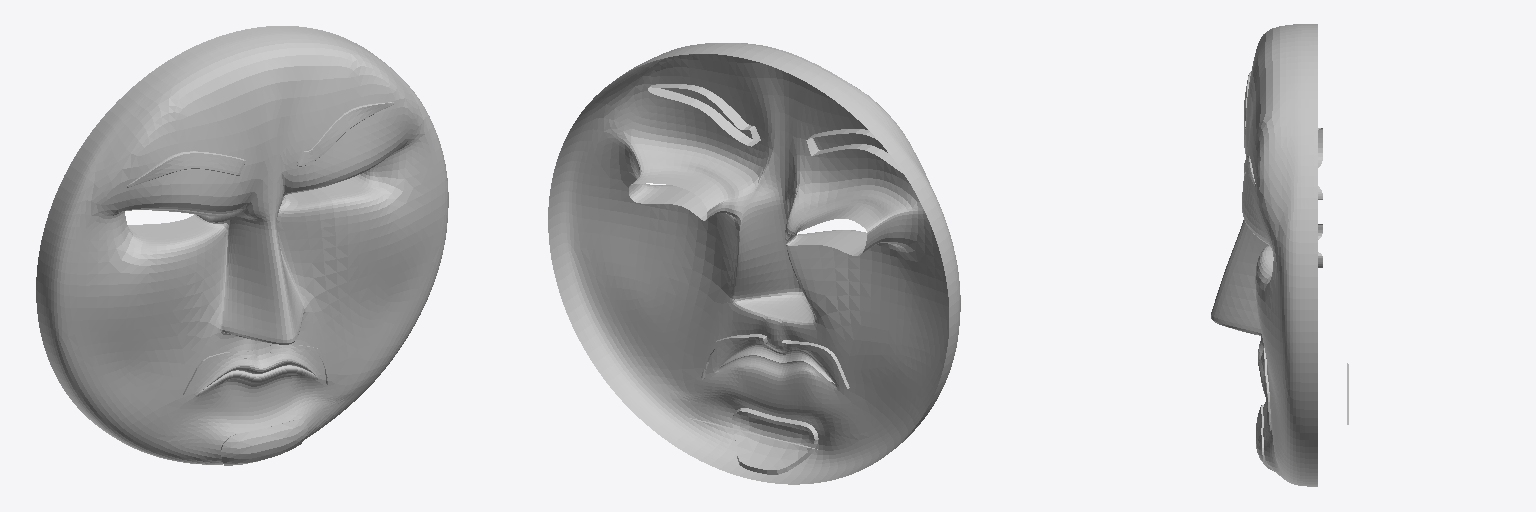
Rendered from Cross.obj.
3 views of the same model, side by side, from view 1: azimuth 30°, elevation 25°; view 2: azimuth 150°, elevation 25°; view 3: azimuth 270°, elevation 25° (orthographic).
Visible parts, largest first — view 1: Circle.033_Circle.068; view 2: Circle.033_Circle.068; view 3: Circle.033_Circle.068.
Part boxes in pixels (x1,y1,x2,y2): Circle.033_Circle.068: (36,26,448,465); Circle.033_Circle.068: (548,43,960,484); Circle.033_Circle.068: (1211,24,1348,486).
Size of the model in its own units: 50.64 by 50.76 by 15.12.